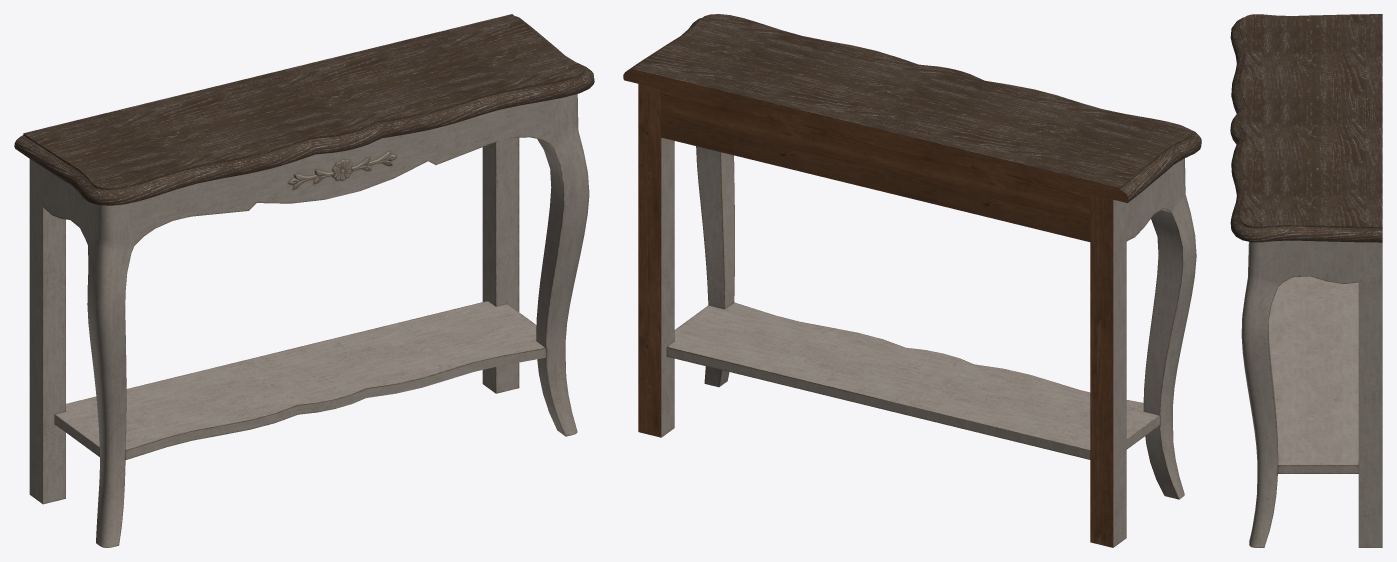
Rendered from example121.gltf.
3 views of the same model, side by side, from view 1: azimuth 30°, elevation 25°; view 2: azimuth 150°, elevation 25°; view 3: azimuth 270°, elevation 25° (orthographic). The views are drawn at different scales.
Bounding box in the file's own units: 110 × 75 × 31.95.
3 materials, 3 textured.
